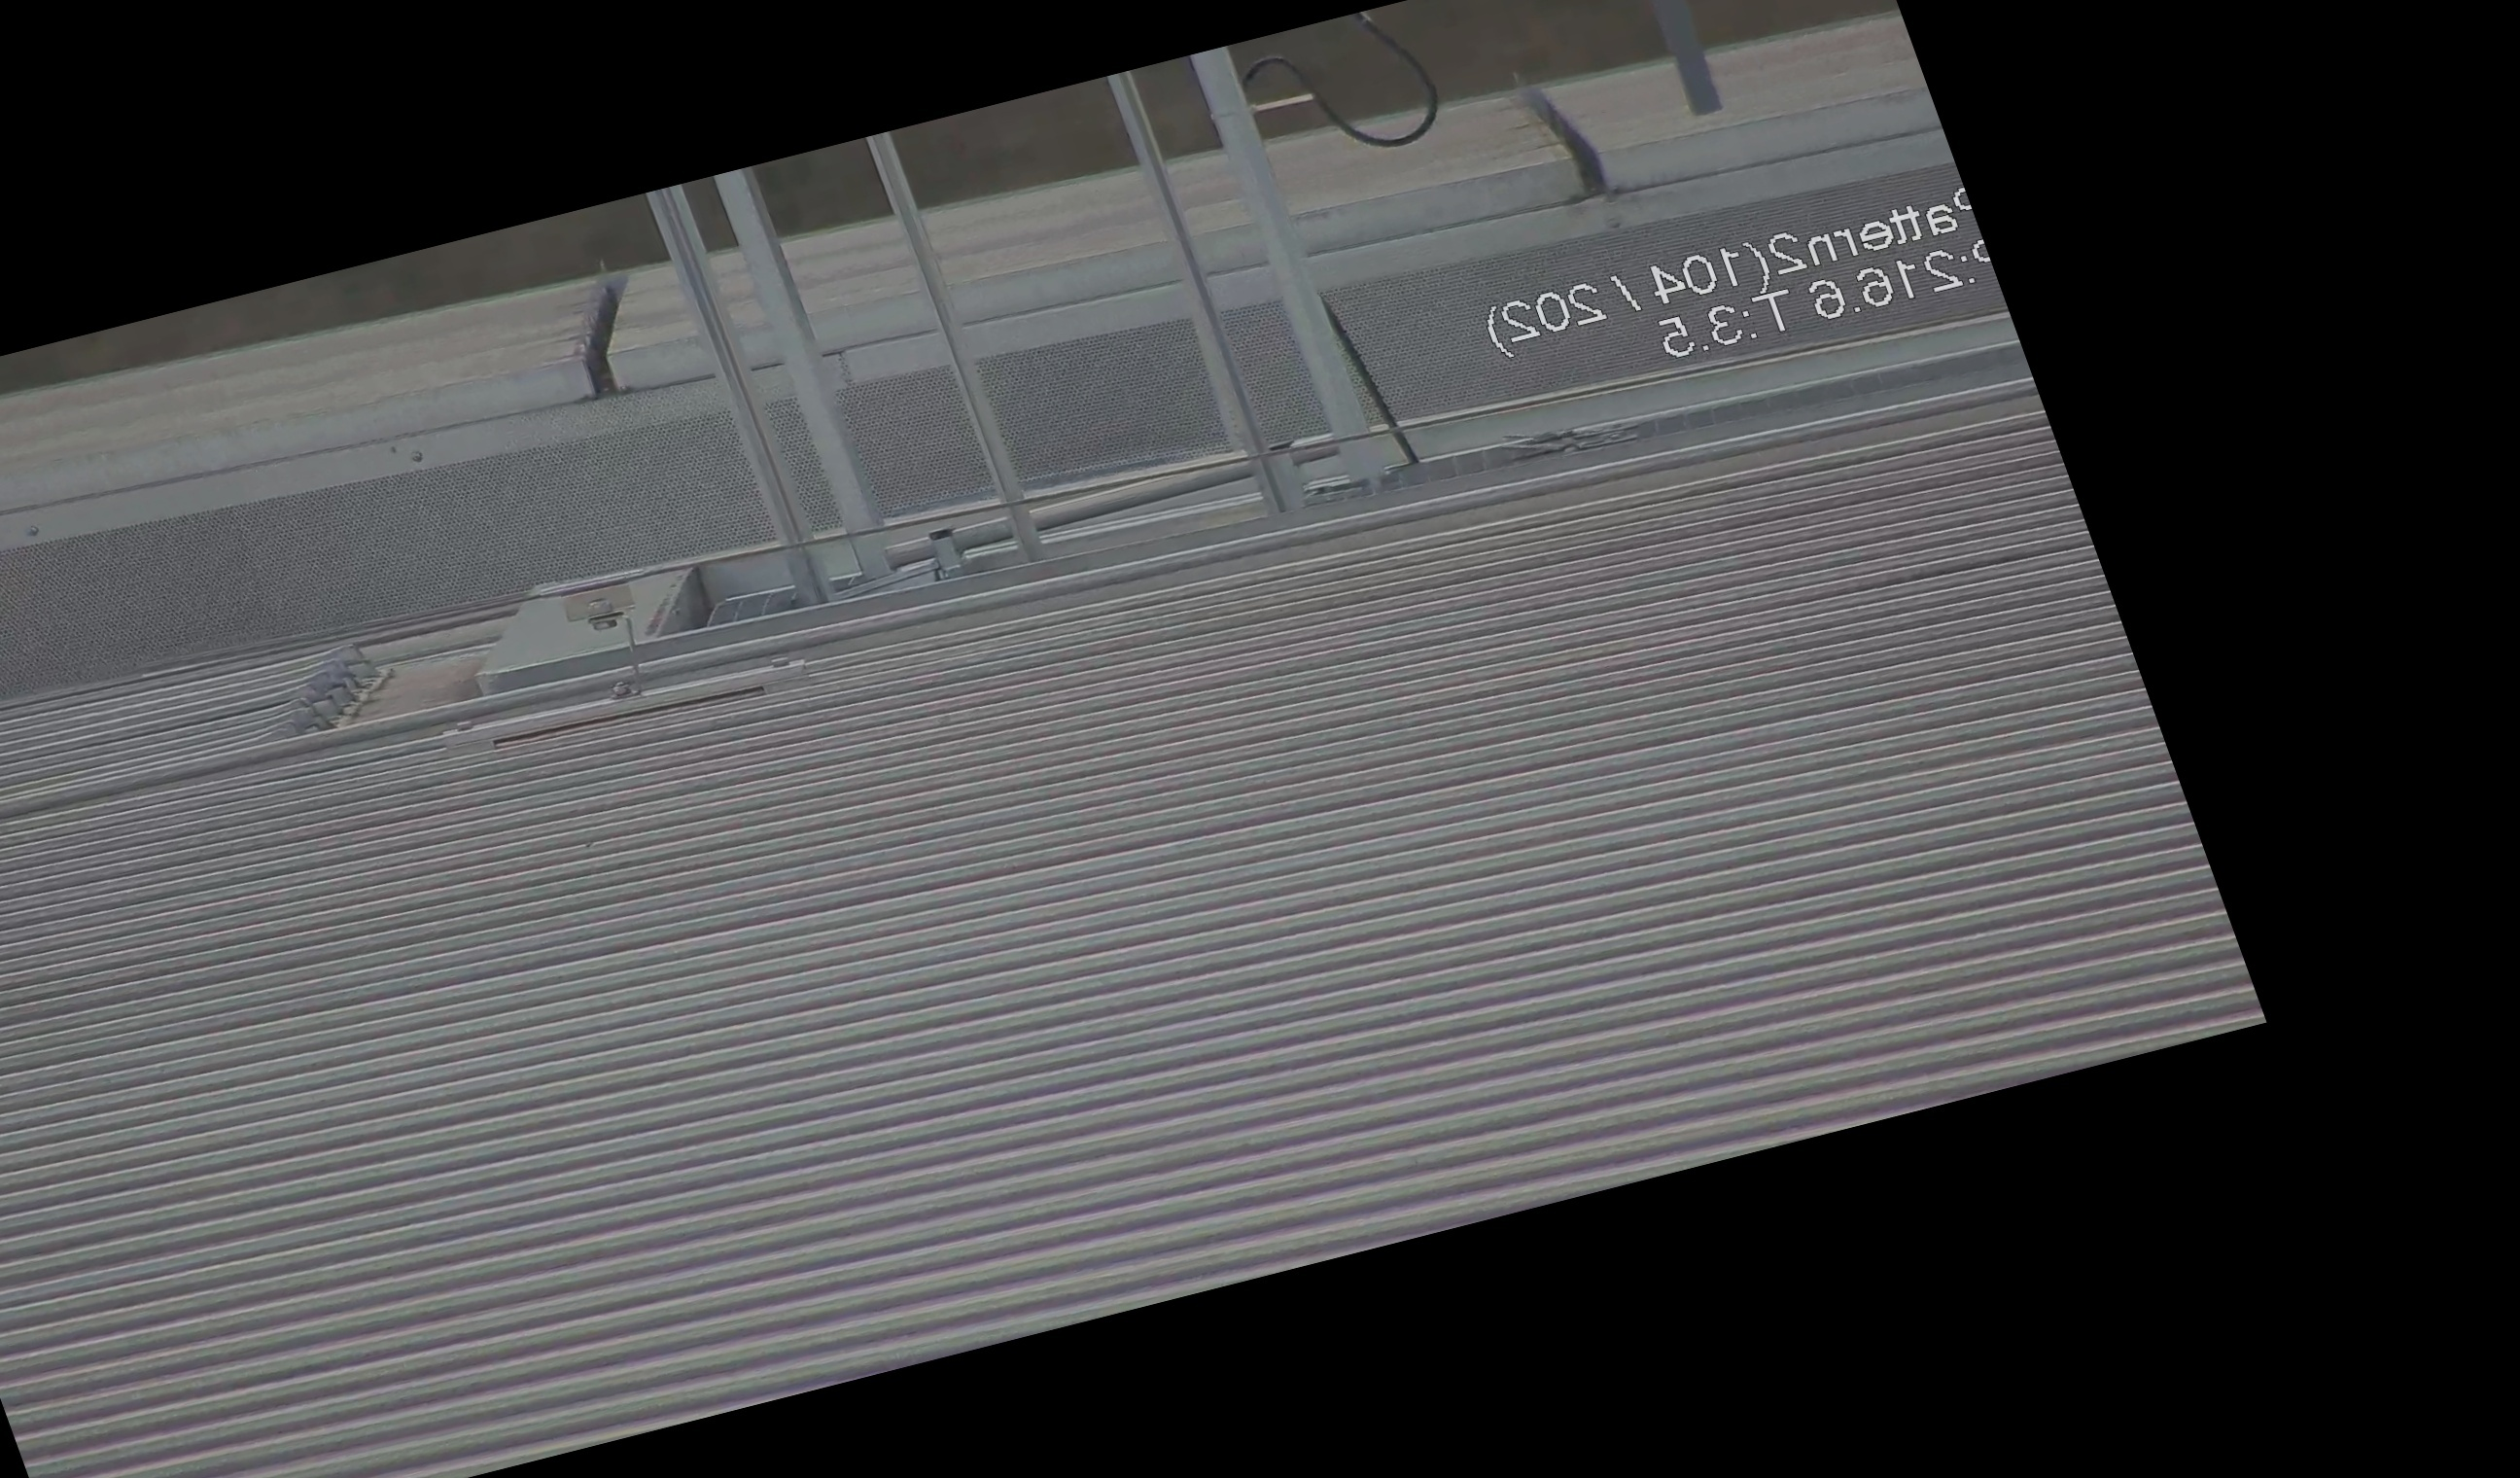Other: (521, 253, 675, 410)
